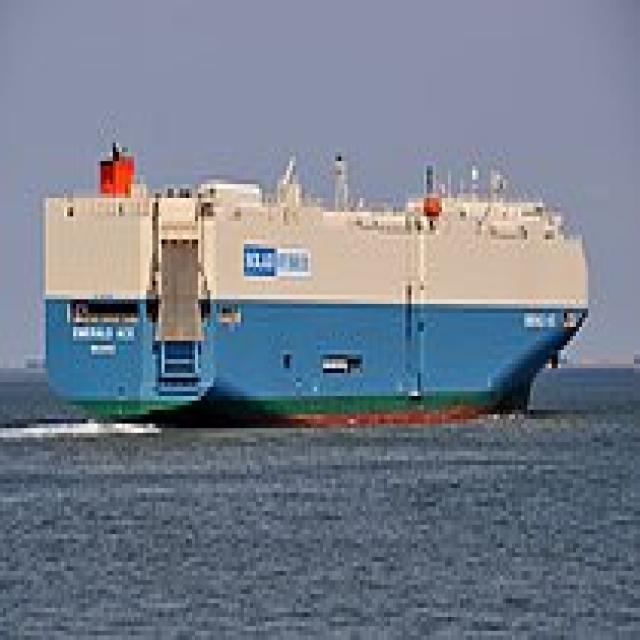Carrier: (34, 129, 591, 433)
